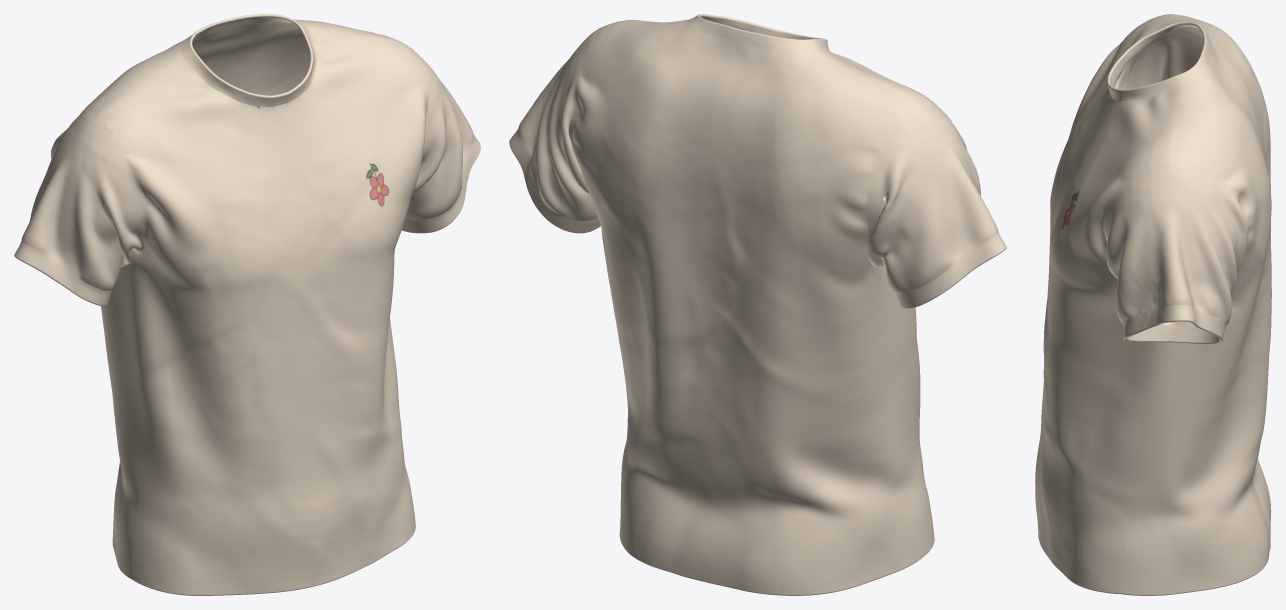
Rendered from display.glb.
3 views of the same model, side by side, from view 1: azimuth 30°, elevation 25°; view 2: azimuth 150°, elevation 25°; view 3: azimuth 270°, elevation 25° (orthographic). The views are drawn at different scales.
Parts seen in each view (by area): view 1: t-shirt.002_2; view 2: t-shirt.002_2; view 3: t-shirt.002_2.
Boxes of the visible parts, bbox=[...] form: t-shirt.002_2: bbox=[14, 14, 480, 595]; t-shirt.002_2: bbox=[509, 14, 1006, 595]; t-shirt.002_2: bbox=[1035, 14, 1271, 595].
Bounding box in the file's own units: 0.656 × 0.68 × 0.2939.
2 materials, 1 textured.
